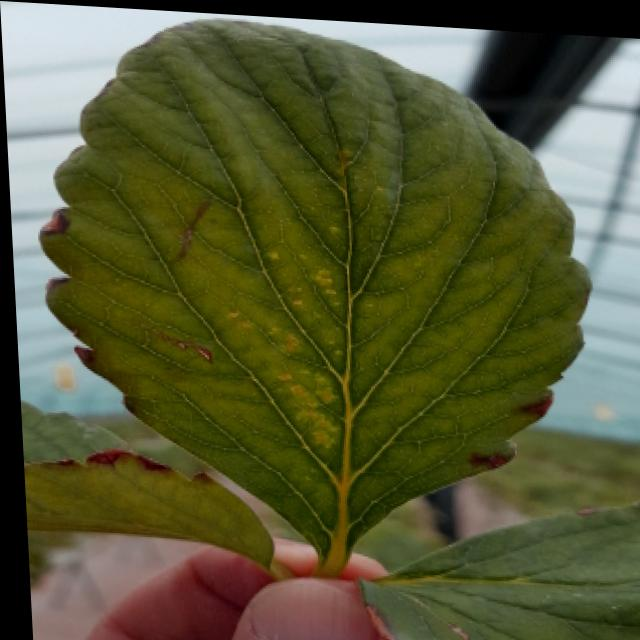Angular Leafspot: (216, 213, 350, 461)
